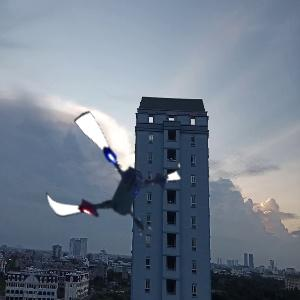drone: (38, 111, 180, 253)
